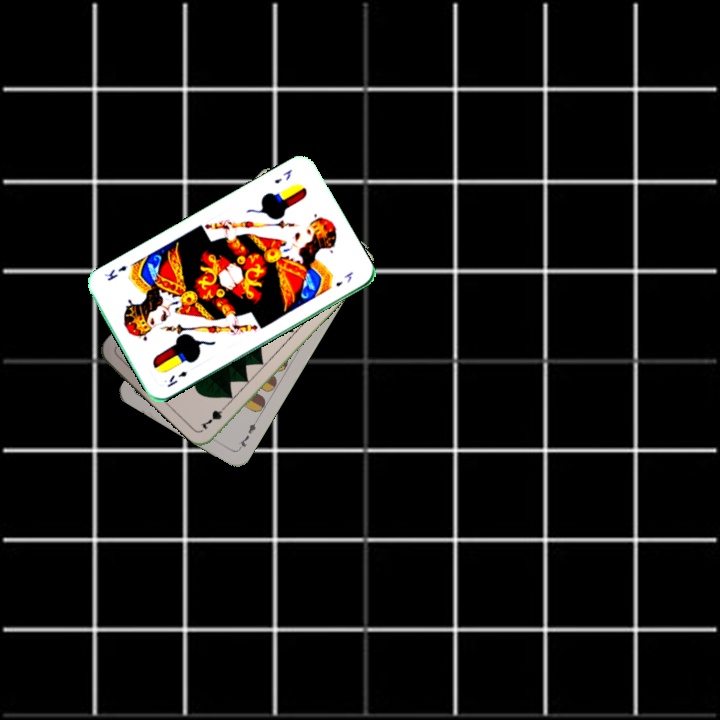E7: (235, 416, 261, 453)
EK: (163, 367, 190, 390), (270, 165, 295, 186)
G7: (197, 399, 231, 432)
